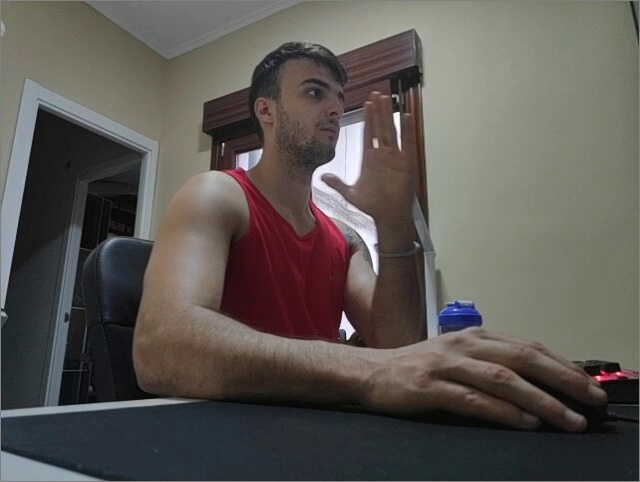Palm: (322, 90, 417, 230)
